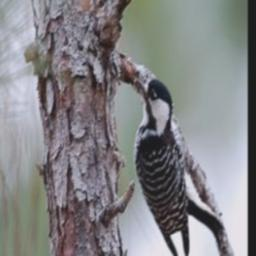Woodpecker: (129, 71, 224, 256)
